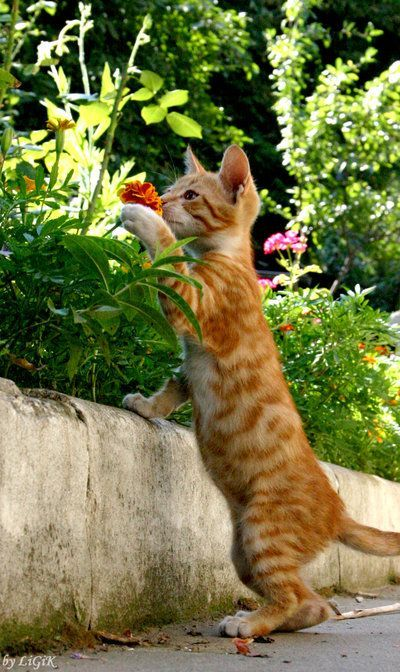cat: (117, 141, 400, 639)
